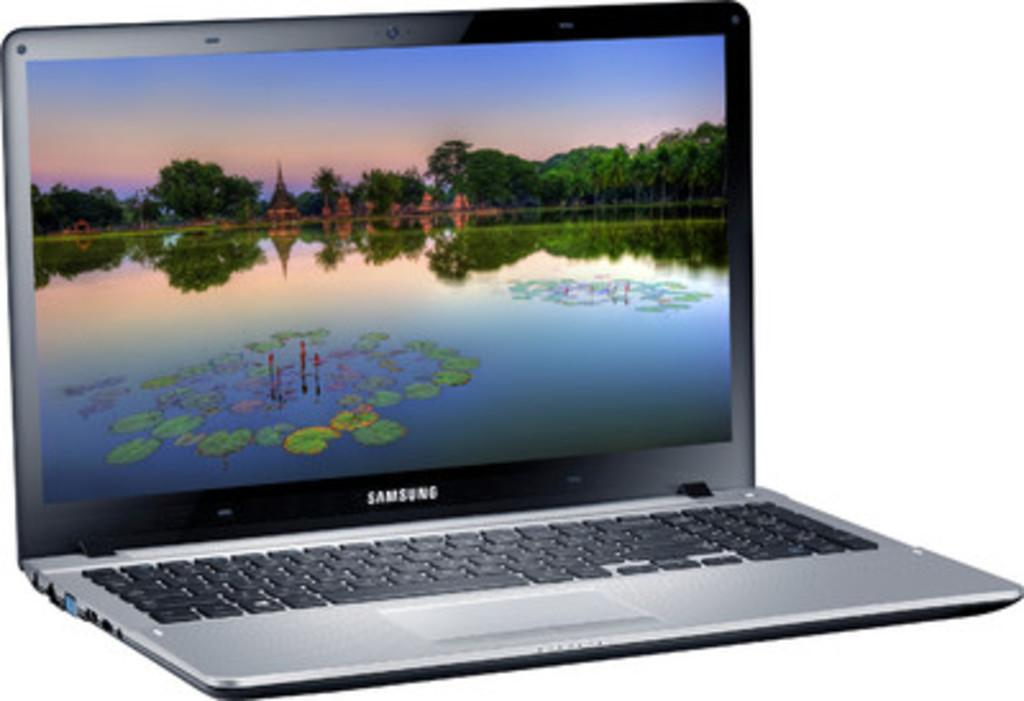Laptop: (0, 0, 1021, 698)
